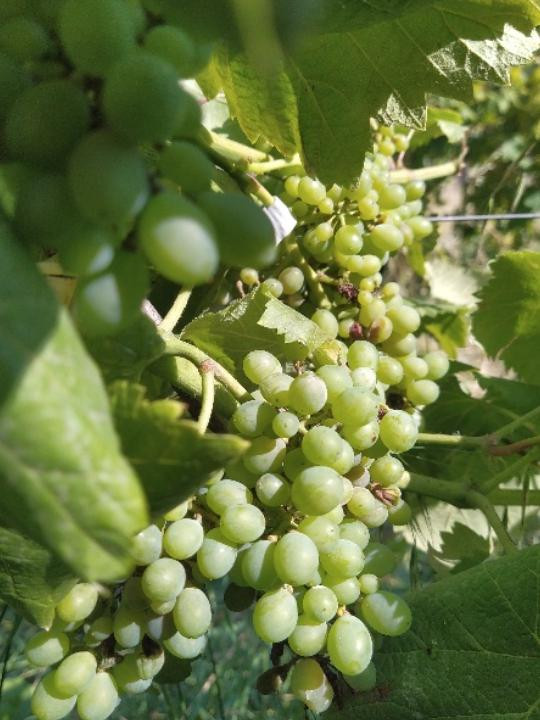grape: (18, 336, 456, 720)
